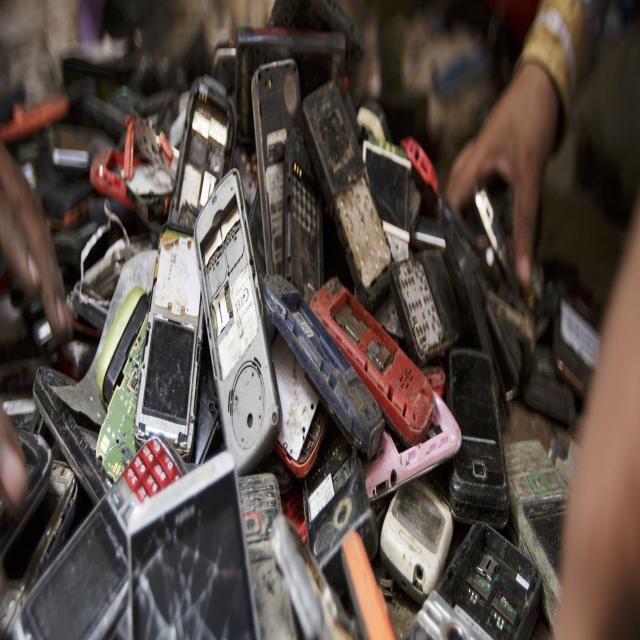hazard: (319, 120, 532, 581), (33, 81, 226, 487), (137, 175, 275, 474), (21, 430, 180, 640), (255, 75, 392, 306), (129, 461, 261, 640), (419, 531, 537, 640)
